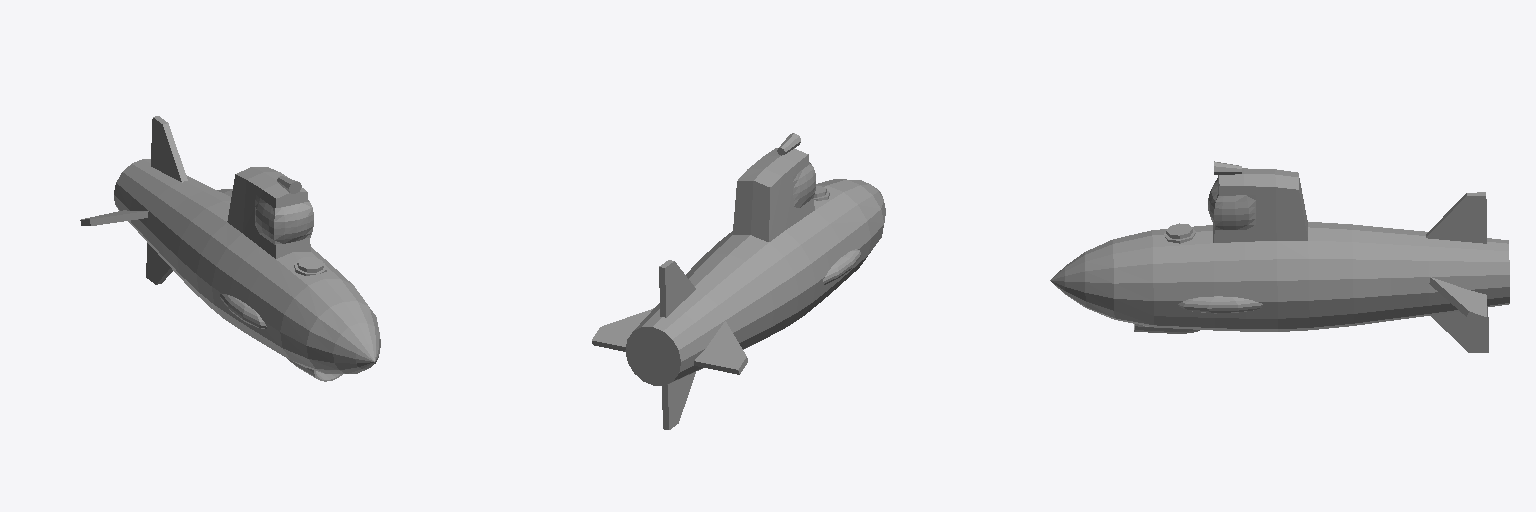
Rendered from OrcaSub1.obj.
3 renders of one model, left to right at view 1: azimuth 30°, elevation 25°; view 2: azimuth 150°, elevation 25°; view 3: azimuth 270°, elevation 25°, orthographic.
Visible parts, largest first — view 1: Inst3D12_RefRep.268; view 2: Inst3D12_RefRep.268; view 3: Inst3D12_RefRep.268.
Part boxes in pixels (left/top/right/bottom): Inst3D12_RefRep.268: left=80, top=116, right=380, bottom=381; Inst3D12_RefRep.268: left=592, top=133, right=885, bottom=429; Inst3D12_RefRep.268: left=1050, top=161, right=1509, bottom=352.
Bounding box in the file's own units: 1.01 × 1.28 × 2.76.